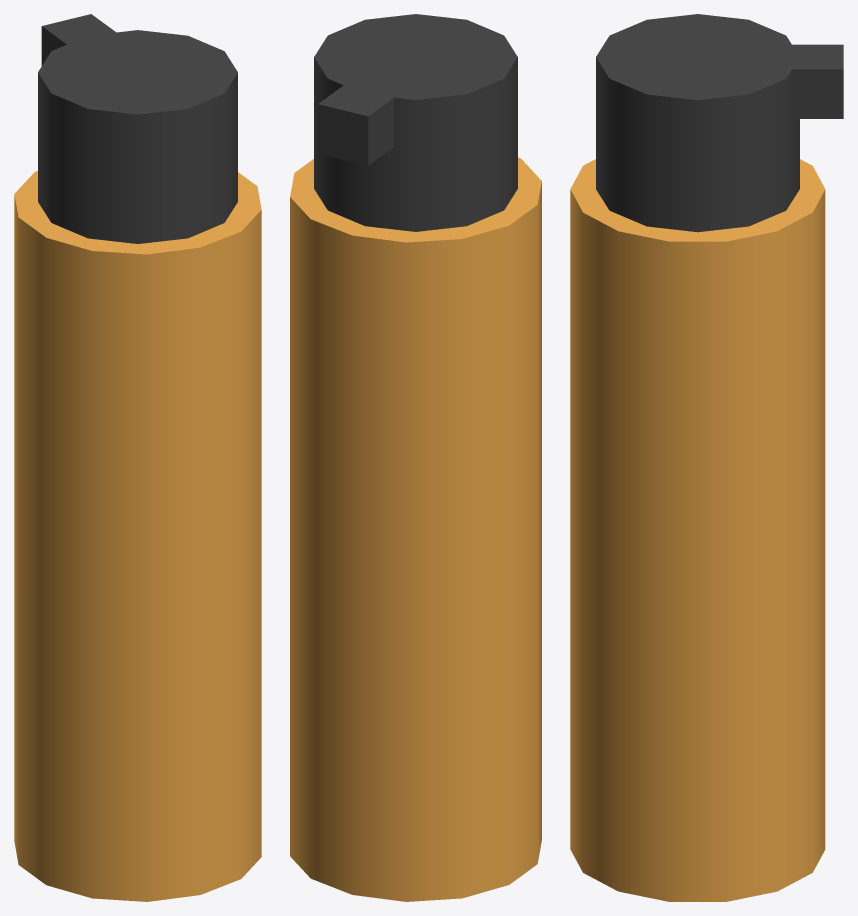
The model's file is bearspray.glb.
3 views of the same model, side by side, from view 1: azimuth 30°, elevation 25°; view 2: azimuth 150°, elevation 25°; view 3: azimuth 270°, elevation 25° (orthographic).
Visible parts, largest first — view 1: BearSpray; view 2: BearSpray; view 3: BearSpray.
Part boxes in pixels (left/top/right/bottom): BearSpray: left=14, top=14, right=261, bottom=901; BearSpray: left=290, top=14, right=541, bottom=901; BearSpray: left=570, top=14, right=843, bottom=901.
Size of the model in its own units: 0.0682 by 0.24 by 0.075.
